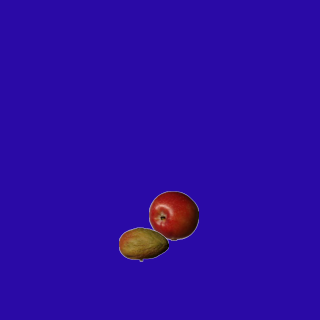Apple Braeburn: (148, 190, 198, 240)
Papaya: (118, 219, 168, 269)
